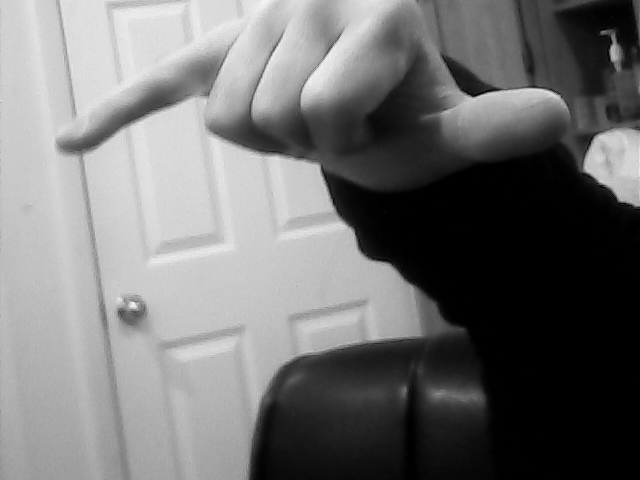aloha: (48, 1, 571, 191)
